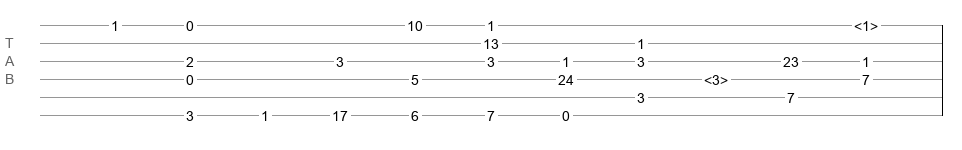0: (186, 18, 194, 28), (186, 72, 194, 82), (562, 108, 570, 118)
1: (111, 18, 119, 28), (261, 108, 269, 118), (487, 18, 495, 28), (562, 54, 570, 64), (637, 36, 645, 46), (862, 54, 870, 64)
10: (407, 18, 423, 28)
13: (483, 36, 499, 46)
17: (332, 108, 348, 118)
2: (186, 54, 194, 64)
23: (783, 54, 799, 64)
24: (558, 72, 574, 82)
3: (186, 108, 194, 118), (336, 54, 344, 64), (487, 54, 495, 64), (637, 54, 645, 64), (637, 90, 645, 100)
5: (411, 72, 419, 82)
6: (411, 108, 419, 118)
7: (487, 108, 495, 118), (787, 90, 795, 100), (862, 72, 870, 82)
harmonic: (704, 72, 728, 82), (854, 18, 878, 28)
